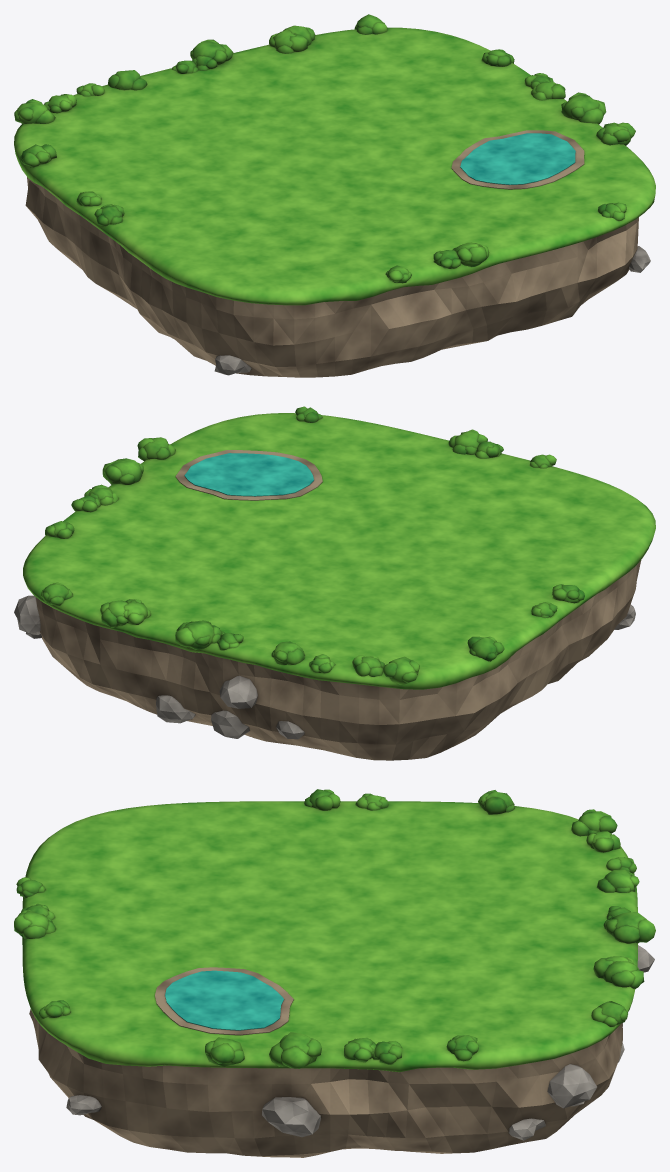
The model's file is ChichenItza_Island.fbx.
3 views of the same model, one above another, from view 1: azimuth 30°, elevation 25°; view 2: azimuth 150°, elevation 25°; view 3: azimuth 270°, elevation 25° (orthographic). The views are drawn at different scales.
Parts seen in each view (by area): view 1: Island_Top, Island_Body; view 2: Island_Top, Island_Body; view 3: Island_Top, Island_Body.
Boxes of the visible parts, box(x1,y1,x2,y2) form: Island_Top: box(14, 14, 655, 305); Island_Body: box(25, 177, 650, 377); Island_Top: box(23, 406, 655, 689); Island_Body: box(14, 560, 641, 760); Island_Top: box(14, 789, 655, 1072); Island_Body: box(29, 945, 654, 1157).
Size of the model in its own units: 16.68 by 5.51 by 16.76.
Materials: 1 (1 with a texture image).
